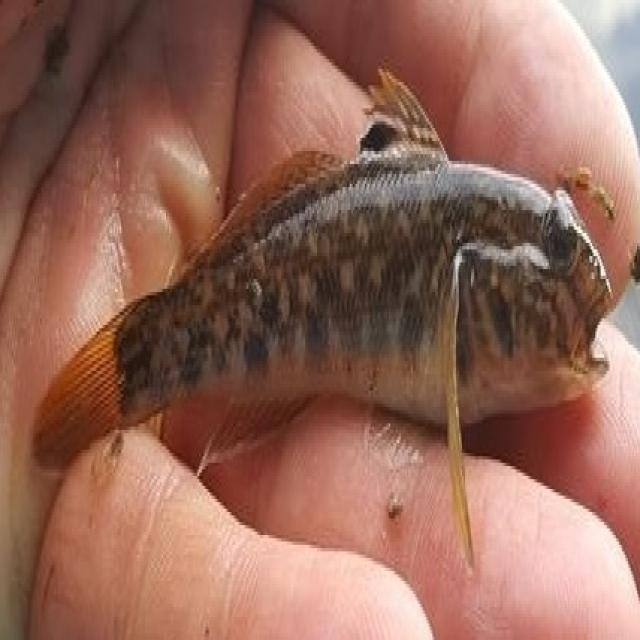Goby: (2, 42, 607, 550)
